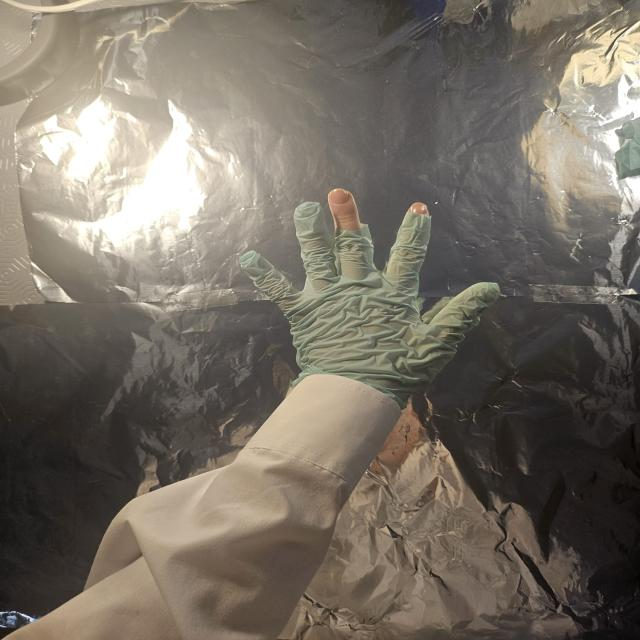gloves_damaged: (235, 185, 502, 408)
